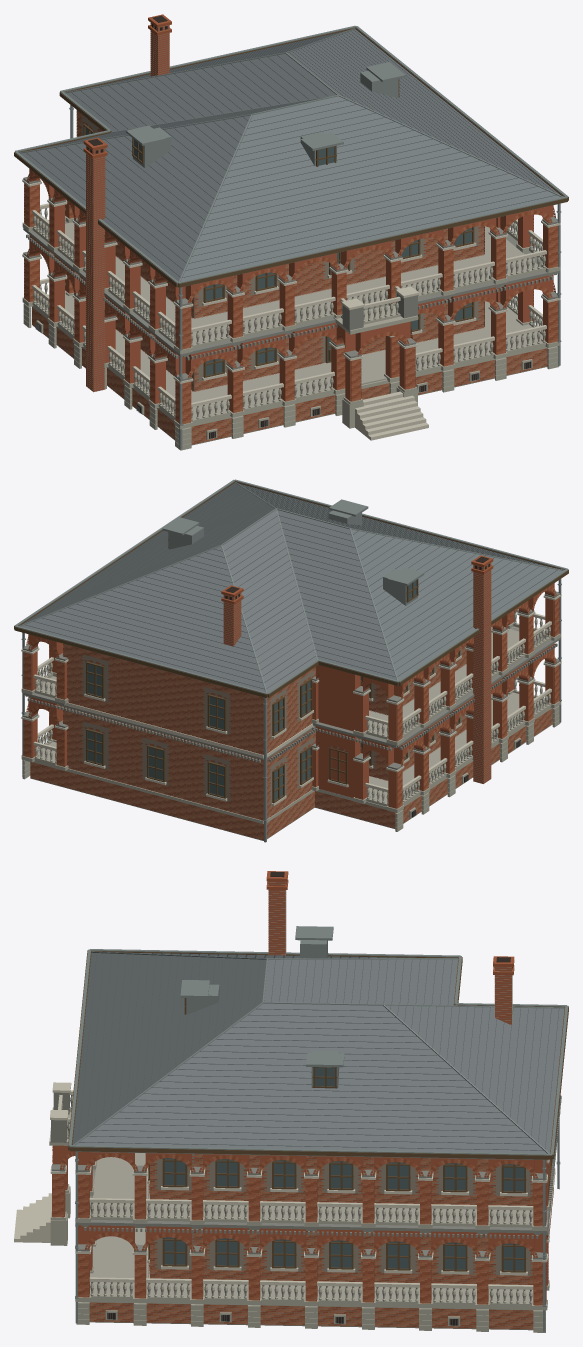
The model's file is bespoke-jungmyeongjeon.glb.
The picture shows the model from 3 angles, top to bottom: view 1: azimuth 30°, elevation 25°; view 2: azimuth 150°, elevation 25°; view 3: azimuth 270°, elevation 25°; orthographic projection. The views are drawn at different scales.
Parts seen in each view (by area): view 1: 10_L_Hipped_Slate_Roof_Grey_slate_roof, 10_L_Hipped_Slate_Roof_Slate_courses, 03_Seven_Bay_Front_Arcade_Red_brick_body, 02_Asymmetric_Rear_Core_Corridor_stone_floor, 08_Stone_Balustrades_Grey_limestone_and_weathered_balusters, 05_Short_West_Arcade_Red_brick_body, 02_Asymmetric_Rear_Core_Warm_recessed_mortar, 11_Dormers_and_Chimneys_Red_brick_body, 12_Cornices_Drainage_Dark_grey_zinc_gutters, 01_Raised_Brick_Plinth_Grey_limestone_and_weathered_baluster, 08_Stone_Balustrades_Stone_cap_and_sills, 12_Cornices_Drainage_Grey_header_brick (+40 smaller); view 2: 10_L_Hipped_Slate_Roof_Grey_slate_roof, 02_Asymmetric_Rear_Core_Warm_recessed_mortar, 10_L_Hipped_Slate_Roof_Slate_courses, 06_Rear_Returns_Red_brick_body, 05_Short_West_Arcade_Red_brick_body, 06_Rear_Returns_Photographic_brick_variation_2, 06_Rear_Returns_Photographic_brick_variation_3, 06_Rear_Returns_Photographic_brick_variation_1, 06_Rear_Returns_Photographic_brick_variation_0, 06_Rear_Returns_Photographic_brick_variation_4, 01_Raised_Brick_Plinth_Warm_recessed_mortar, 11_Dormers_and_Chimneys_Red_brick_body (+30 smaller); view 3: 10_L_Hipped_Slate_Roof_Grey_slate_roof, 10_L_Hipped_Slate_Roof_Slate_courses, 04_Long_East_Arcade_Red_brick_body, 02_Asymmetric_Rear_Core_Warm_recessed_mortar, 02_Asymmetric_Rear_Core_Corridor_stone_floor, 08_Stone_Balustrades_Grey_limestone_and_weathered_balusters, 09_Windows_and_Doors_Recessed_window_glass, 09_Windows_and_Doors_Dark_brown_wood_frames, 12_Cornices_Drainage_Dark_grey_zinc_gutters, 12_Cornices_Drainage_Grey_header_brick, 01_Raised_Brick_Plinth_Grey_limestone_and_weathered_baluster, 01_Raised_Brick_Plinth_Warm_recessed_mortar (+31 smaller).
Boxes of the visible parts, x1,y1,x2,y2 form: 10_L_Hipped_Slate_Roof_Grey_slate_roof: (20, 29, 560, 281); 10_L_Hipped_Slate_Roof_Slate_courses: (26, 30, 556, 277); 03_Seven_Bay_Front_Arcade_Red_brick_body: (182, 206, 557, 423); 02_Asymmetric_Rear_Core_Corridor_stone_floor: (39, 222, 542, 418); 08_Stone_Balustrades_Grey_limestone_and_weathered_balusters: (32, 208, 545, 423); 05_Short_West_Arcade_Red_brick_body: (24, 169, 191, 421); 02_Asymmetric_Rear_Core_Warm_recessed_mortar: (77, 111, 483, 391); 11_Dormers_and_Chimneys_Red_brick_body: (86, 15, 169, 391); 12_Cornices_Drainage_Dark_grey_zinc_gutters: (14, 25, 568, 449); 01_Raised_Brick_Plinth_Grey_limestone_and_weathered_baluster: (23, 303, 559, 450); 08_Stone_Balustrades_Stone_cap_and_sills: (32, 199, 546, 407); 12_Cornices_Drainage_Grey_header_brick: (23, 206, 558, 360); 10_L_Hipped_Slate_Roof_Grey_slate_roof: (21, 483, 562, 692); 02_Asymmetric_Rear_Core_Warm_recessed_mortar: (64, 644, 466, 819); 10_L_Hipped_Slate_Roof_Slate_courses: (25, 483, 557, 689); 06_Rear_Returns_Red_brick_body: (23, 635, 396, 808); 05_Short_West_Arcade_Red_brick_body: (394, 583, 558, 808); 06_Rear_Returns_Photographic_brick_variation_2: (23, 639, 387, 816); 06_Rear_Returns_Photographic_brick_variation_3: (23, 638, 387, 818); 06_Rear_Returns_Photographic_brick_variation_1: (23, 638, 387, 819); 06_Rear_Returns_Photographic_brick_variation_0: (23, 638, 387, 818); 06_Rear_Returns_Photographic_brick_variation_4: (23, 638, 387, 820); 01_Raised_Brick_Plinth_Warm_recessed_mortar: (30, 709, 552, 840); 11_Dormers_and_Chimneys_Red_brick_body: (223, 558, 491, 783); 10_L_Hipped_Slate_Roof_Grey_slate_roof: (72, 952, 564, 1153); 10_L_Hipped_Slate_Roof_Slate_courses: (78, 952, 559, 1150); 04_Long_East_Arcade_Red_brick_body: (78, 1152, 542, 1304); 02_Asymmetric_Rear_Core_Warm_recessed_mortar: (150, 1154, 549, 1284); 02_Asymmetric_Rear_Core_Corridor_stone_floor: (90, 1153, 533, 1302); 08_Stone_Balustrades_Grey_limestone_and_weathered_balusters: (61, 1095, 532, 1306); 09_Windows_and_Doors_Recessed_window_glass: (164, 1158, 524, 1270); 09_Windows_and_Doors_Dark_brown_wood_frames: (148, 1158, 552, 1272); 12_Cornices_Drainage_Dark_grey_zinc_gutters: (68, 949, 568, 1331); 12_Cornices_Drainage_Grey_header_brick: (75, 1095, 561, 1238); 01_Raised_Brick_Plinth_Grey_limestone_and_weathered_baluster: (76, 1168, 555, 1332); 01_Raised_Brick_Plinth_Warm_recessed_mortar: (89, 1209, 551, 1330).
Bounding box in the file's own units: 22.96 × 13.65 × 26.08.
